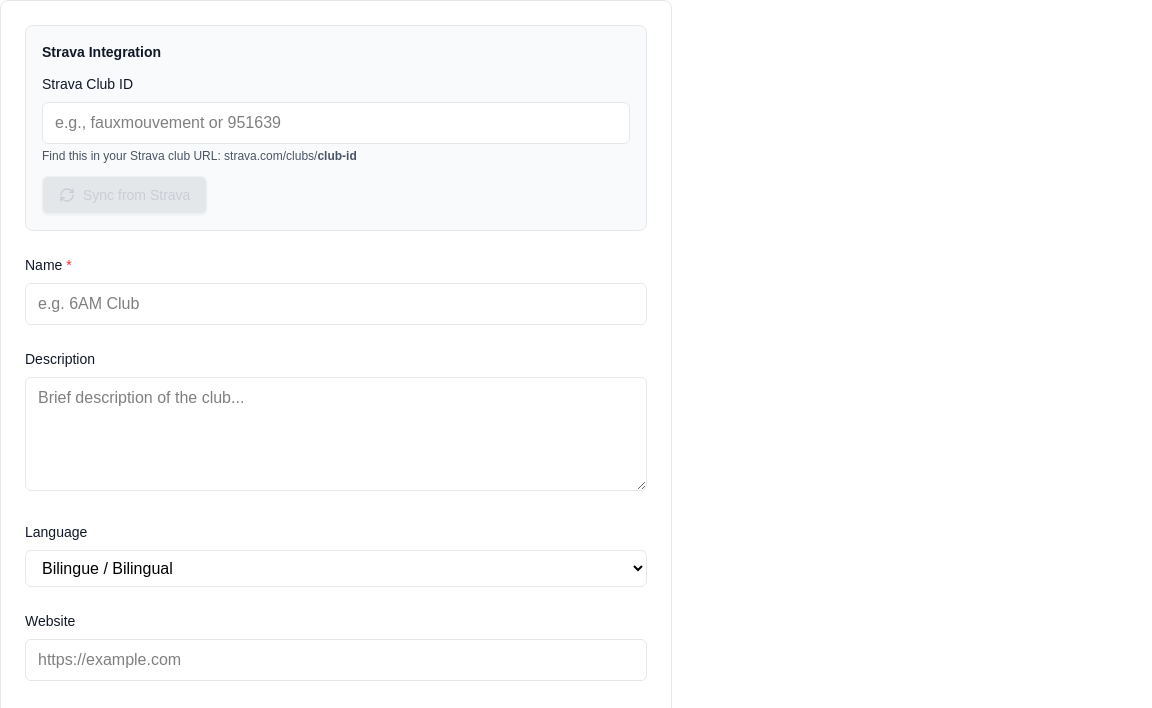
Test: ClubForm › Create Mode › disables submit button while creating
Type "Test Club" into the field labelled "Name*".
click(336, 304); type("Test Club")  # box [25, 283, 647, 325]
(page scrolled)
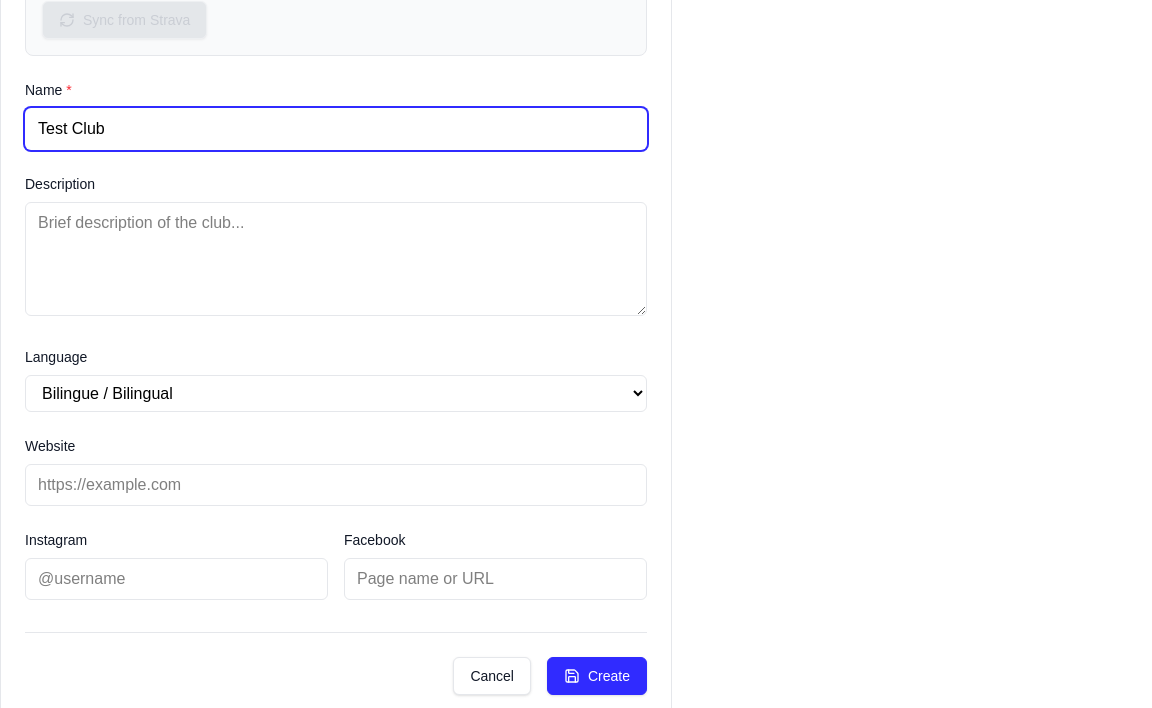
Click the button "Create".
click(597, 676)  # box [547, 657, 647, 695]
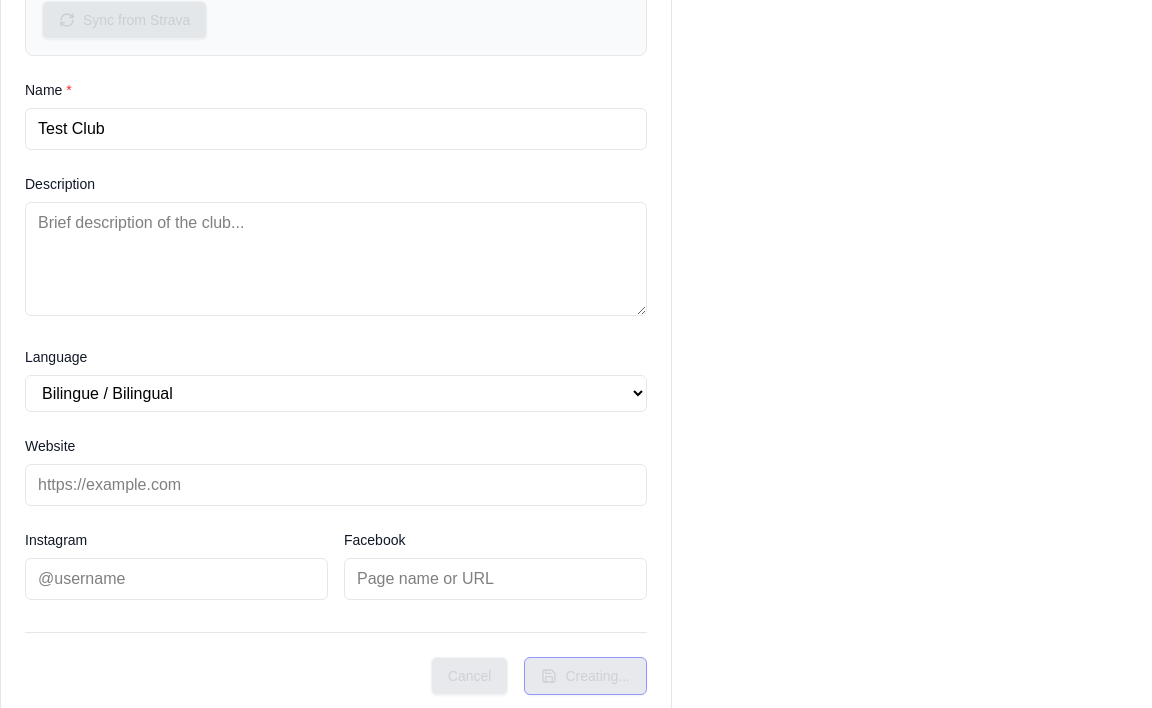
Now the button "Creating..." is disabled, box [524, 657, 647, 695]
